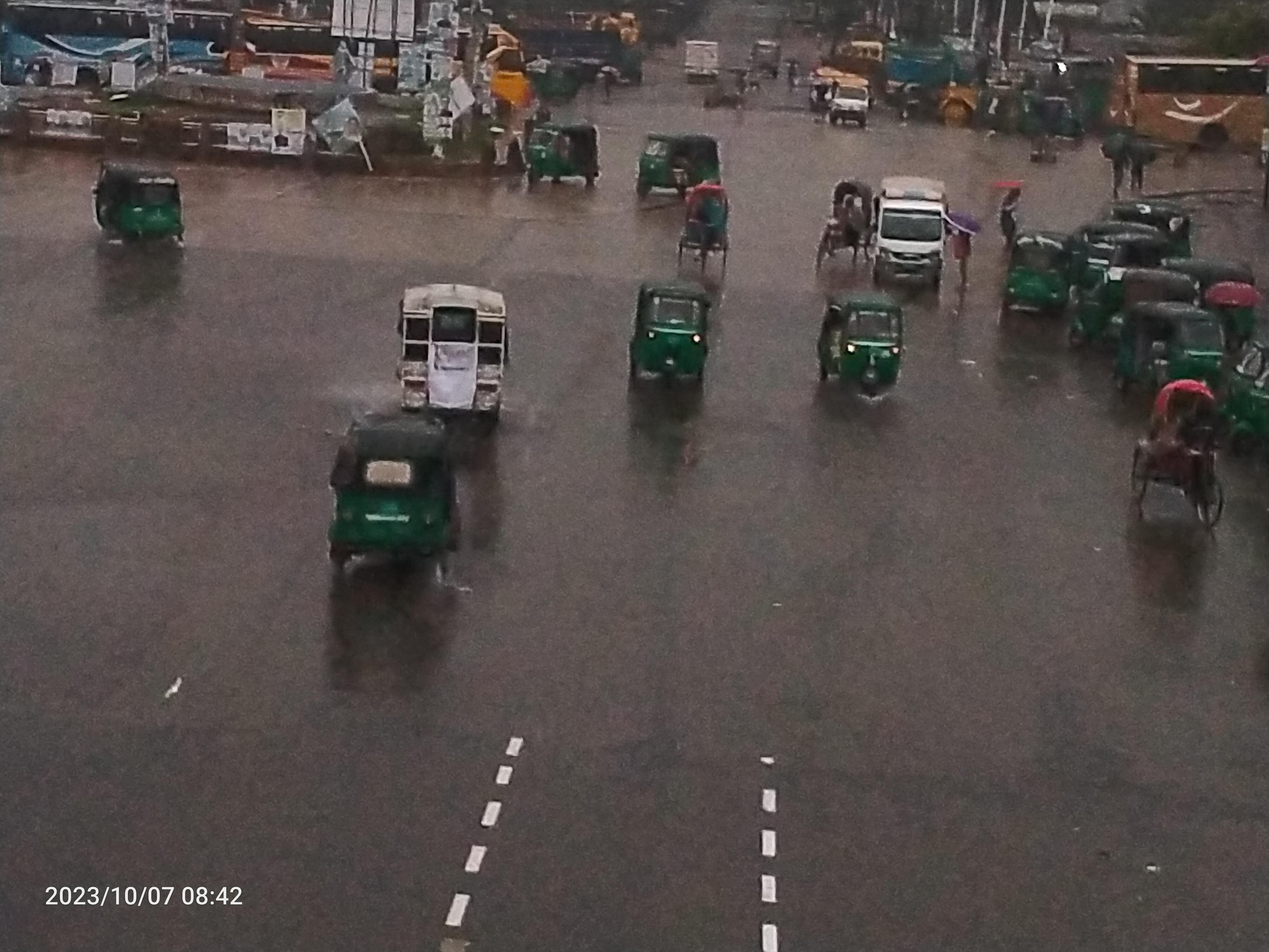Bus: (208, 0, 461, 115), (1092, 29, 1269, 176), (0, 0, 187, 110)
Car: (382, 263, 556, 468), (1112, 366, 1257, 554), (852, 164, 967, 320), (811, 71, 891, 143), (672, 13, 731, 96)
